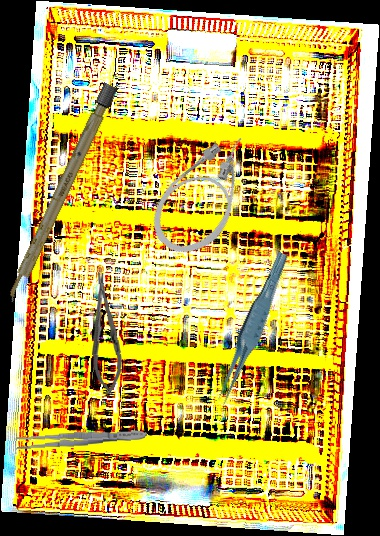Cannula: (138, 122, 276, 268)
Dressing Forceps: (14, 426, 148, 452)
Needle Holder: (86, 272, 125, 395)
Scalpel Handle: (3, 82, 119, 305)
Tissue Forceps: (203, 250, 300, 408)
